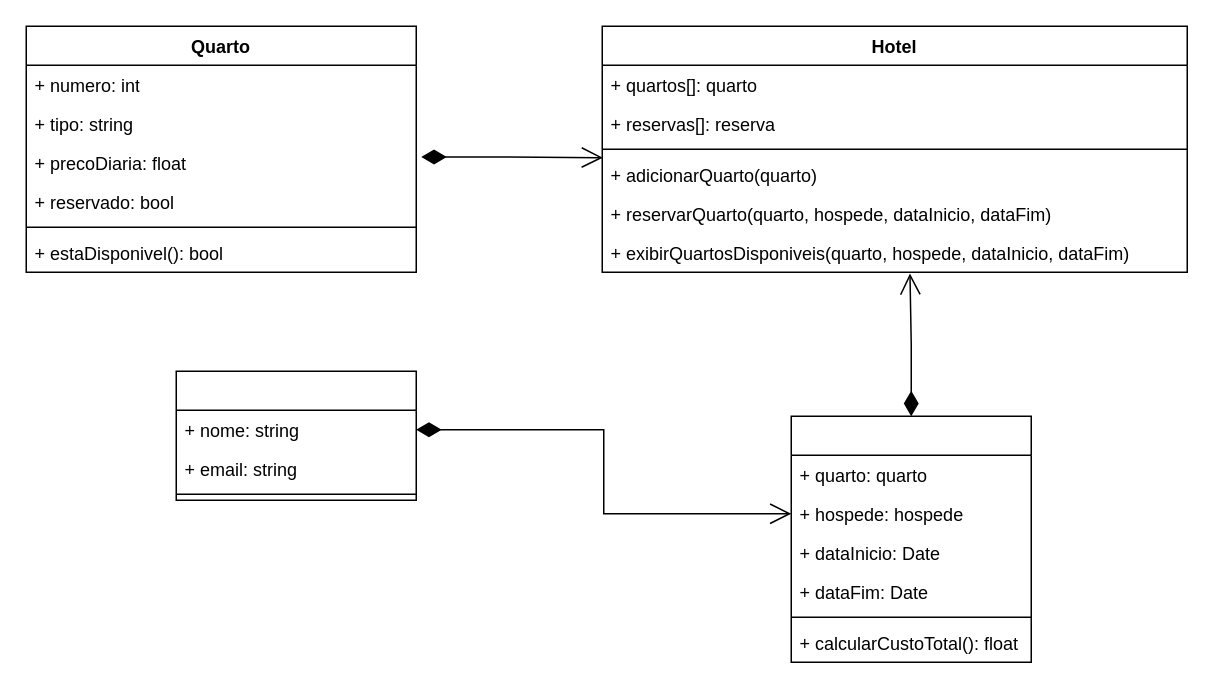
This 1214x693 diagram has some shape labels left out. The shapes that lost their labels are listed below. From the top down, each one's box as (x1, y1, x2, y2) in pixels, then its label:
(175, 370, 416, 500): Hospede
(790, 415, 1031, 662): Reserva
